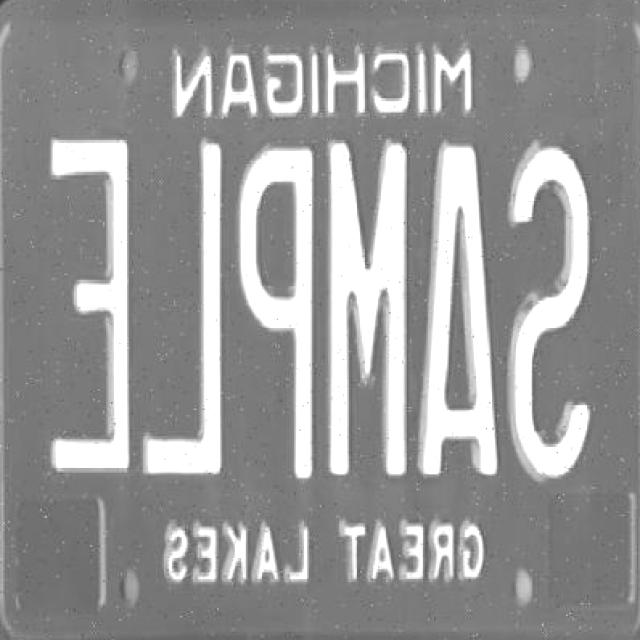licenseplate: (48, 132, 603, 492)
